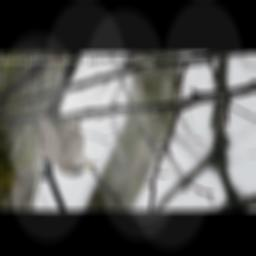Cuckoo: (33, 112, 98, 176)
